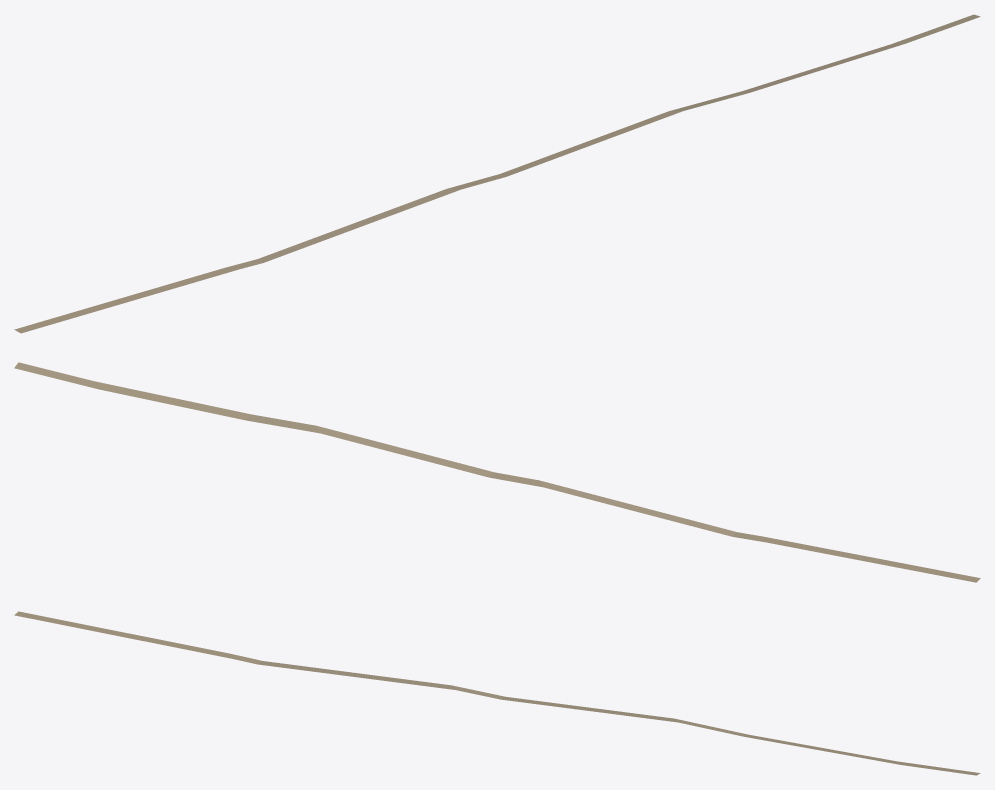
The model's file is farm_-11_-9_track.glb.
3 renders of one model, top to bottom at view 1: azimuth 30°, elevation 25°; view 2: azimuth 150°, elevation 25°; view 3: azimuth 330°, elevation 25°, orthographic. The views are drawn at different scales.
Parts seen in each view (by area): view 1: geometry_0; view 2: geometry_0; view 3: geometry_0.
Boxes of the visible parts, bbox=[...] form: geometry_0: bbox=[14, 14, 980, 333]; geometry_0: bbox=[14, 362, 980, 582]; geometry_0: bbox=[14, 611, 980, 775].
Bounding box in the file's own units: 317 × 9.9 × 31.99.
